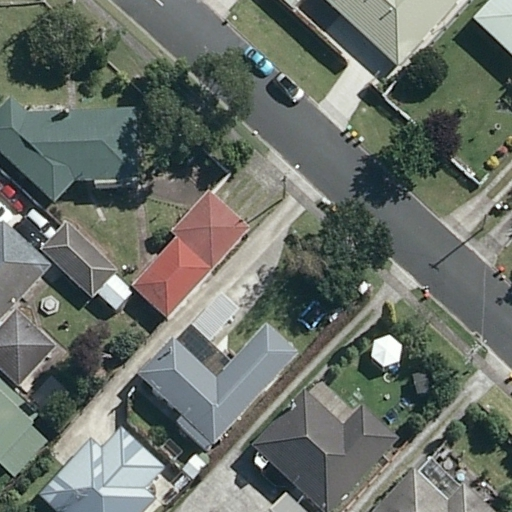DT: (480, 213, 489, 233)
